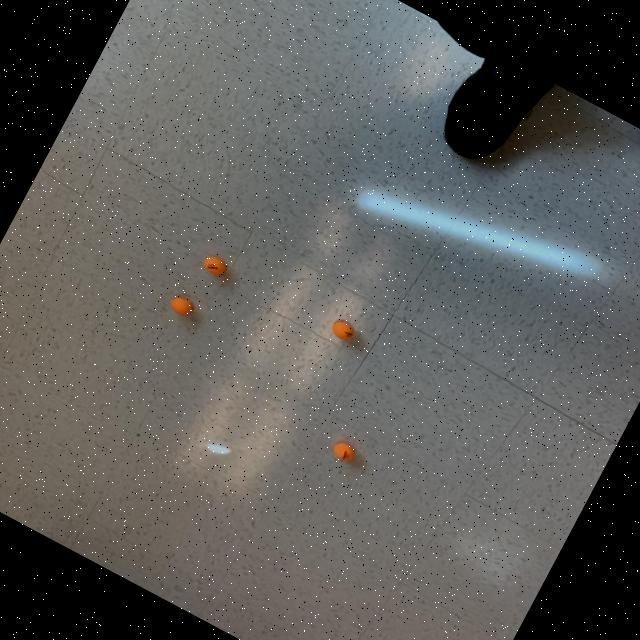ping-pong-ball: (325, 312, 358, 344), (164, 290, 198, 320), (197, 250, 229, 280), (328, 436, 358, 464)
